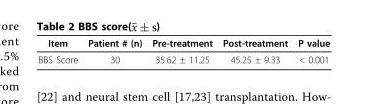table: (37, 36, 329, 64)
table column: (216, 36, 292, 64), (146, 36, 216, 64), (82, 36, 146, 64), (37, 36, 82, 64), (292, 36, 329, 64)
table column header: (37, 36, 329, 50)
table row: (37, 36, 329, 50), (37, 50, 329, 64)
